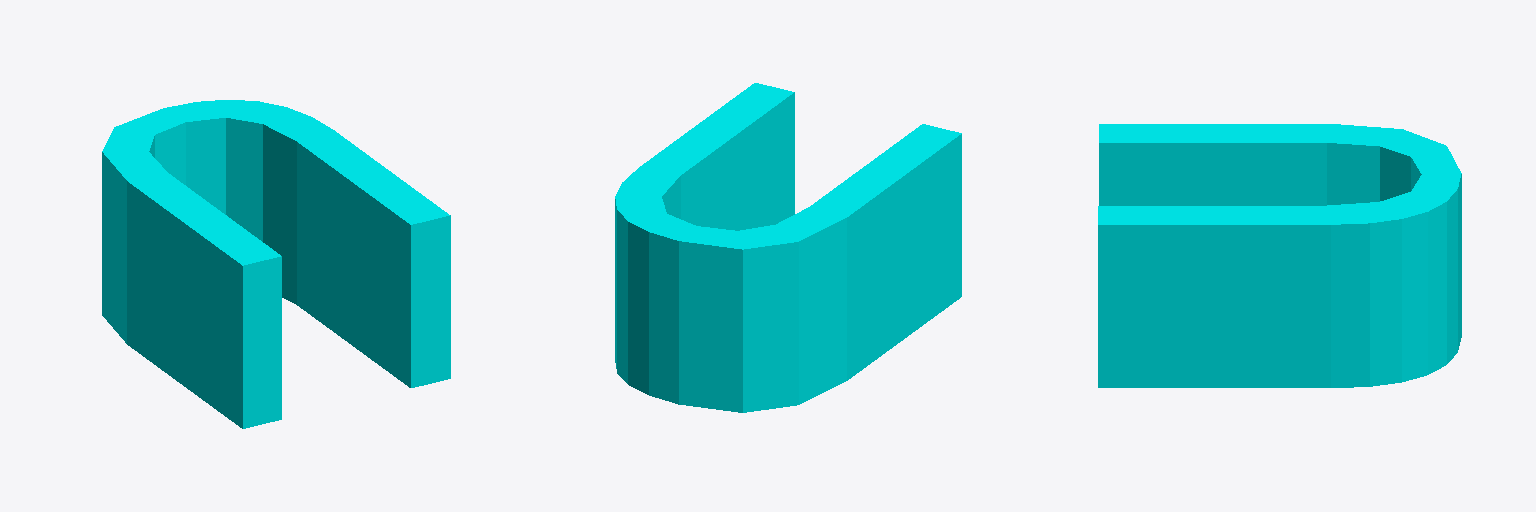
The model's file is Letter U2.obj.
3 views of the same model, side by side, from view 1: azimuth 30°, elevation 25°; view 2: azimuth 150°, elevation 25°; view 3: azimuth 270°, elevation 25° (orthographic).
Visible parts, largest first — view 1: obj_0; view 2: obj_0; view 3: obj_0.
Boxes of the visible parts, <box> form: obj_0: <box>102,100,450,428</box>; obj_0: <box>615,83,961,412</box>; obj_0: <box>1098,124,1461,387</box>.
Size of the model in its own units: 51.11 by 38.48 by 77.51.